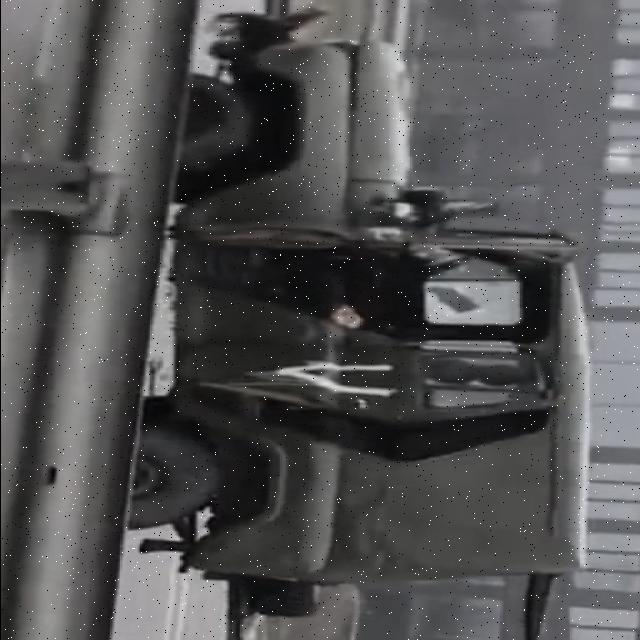CAR: (98, 13, 598, 585)
